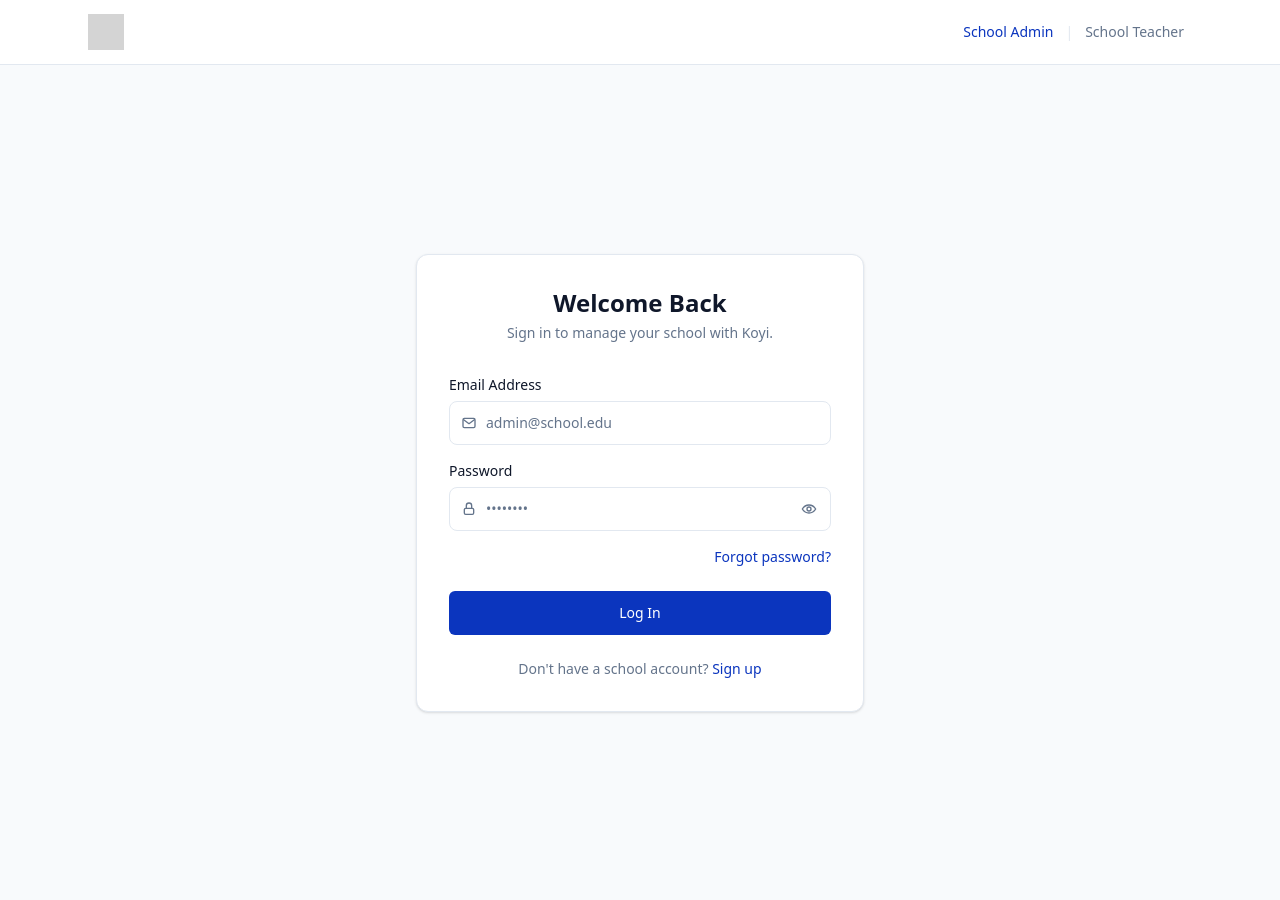
Test case: SchoolAdminLoginPage › validates the required fields
expect the heading "Welcome Back" is shown: met, box [553,286,727,318]
Click the button "Log In" at (640, 612), box [449,590,831,634]
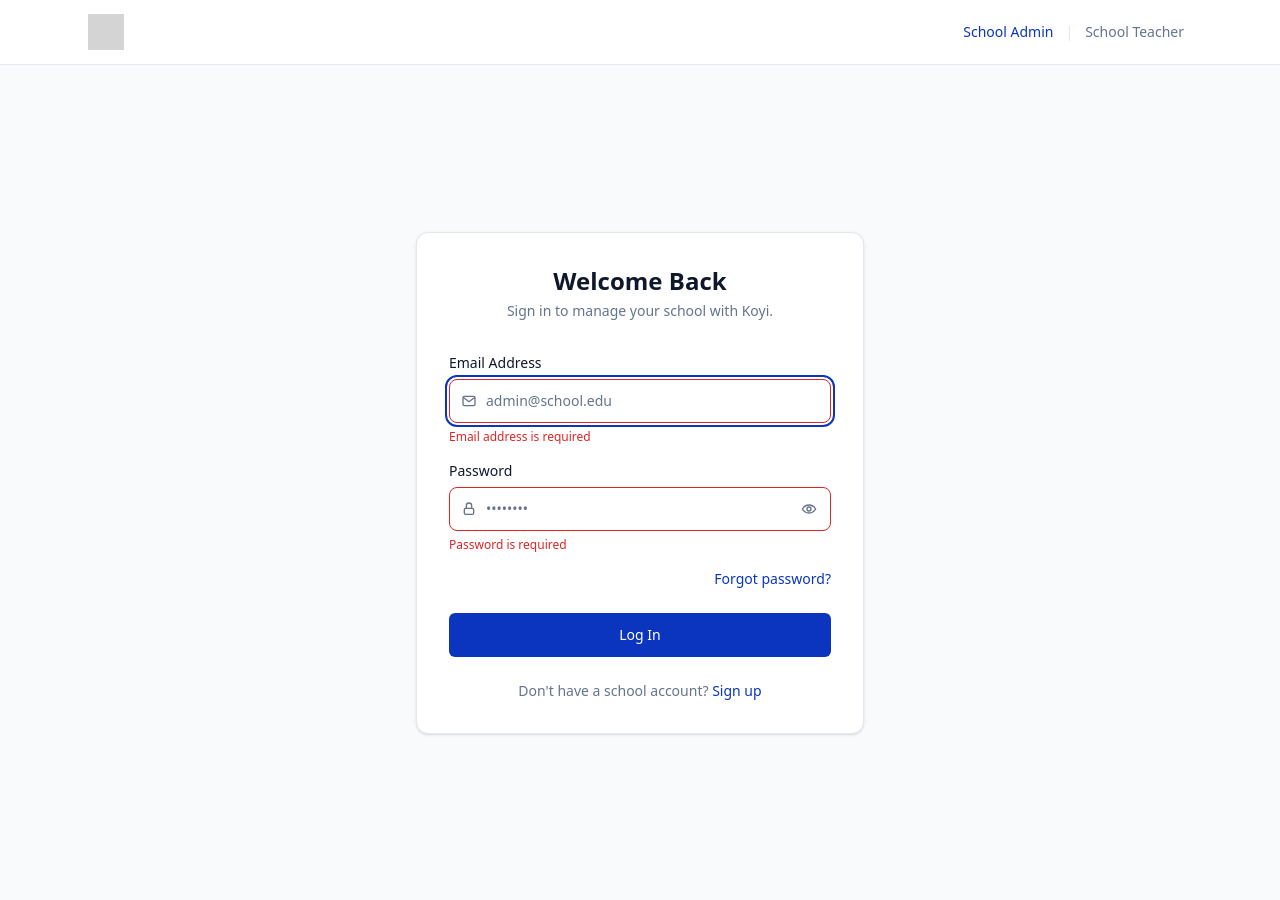
expect the text "Email address is required" is shown: met, box [449,428,591,444]
expect the text "Password is required" is shown: met, box [449,536,567,552]
